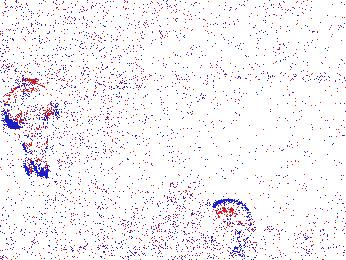flame jellyfish: (4, 82, 61, 177), (53, 200, 114, 257), (209, 198, 254, 252)
